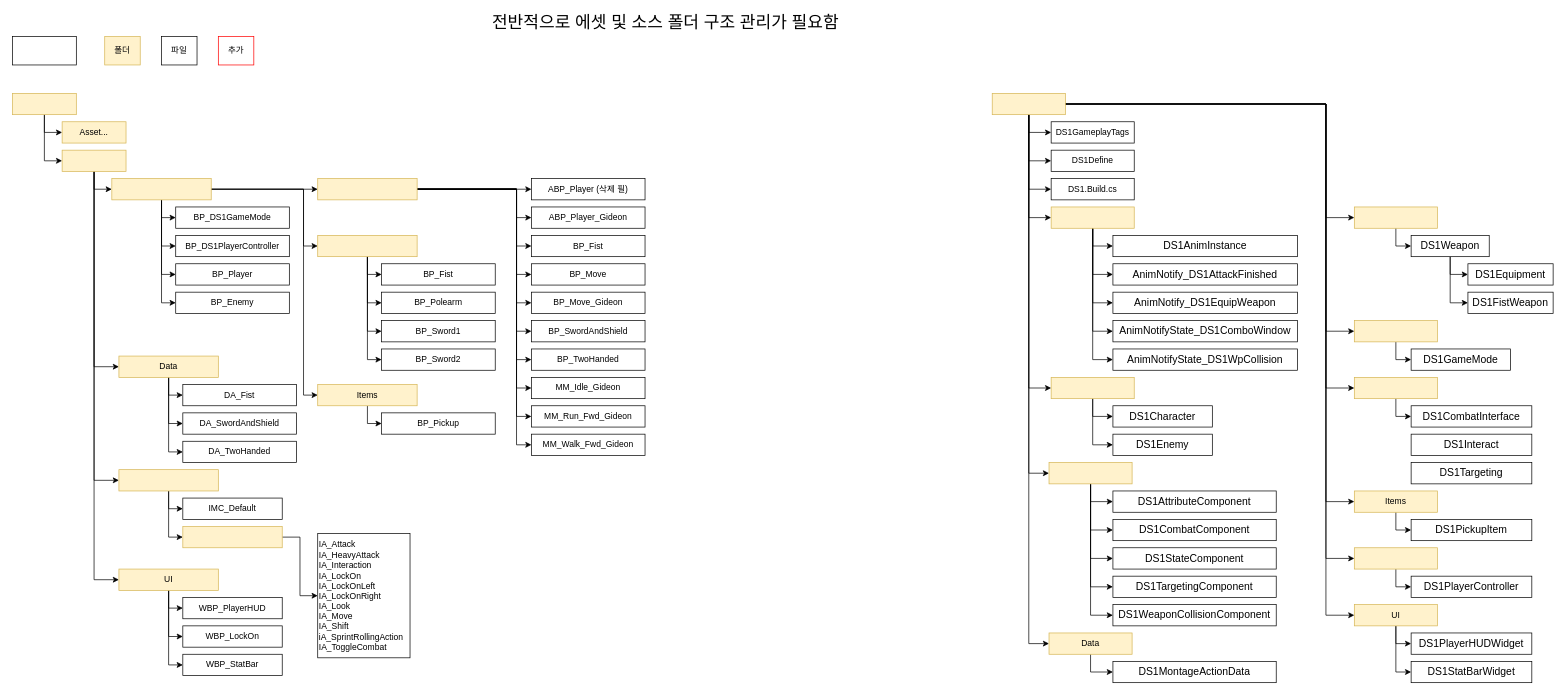
The diagram is 1566 pixels wide and 695 high, and some of its shapes have lost their labels. The box of each missing label's shape, as (x1, y1, x2, y2) in pixels:
_Game: (61, 149, 126, 171)
Actions: (182, 526, 282, 548)
Animation: (1050, 206, 1134, 228)
Animations: (317, 178, 417, 200)
Blueprints: (111, 178, 211, 200)
Character: (1050, 377, 1134, 399)
Components: (1048, 462, 1132, 484)
Content: (12, 93, 76, 115)
Equipment: (1354, 206, 1437, 228)
Equipments: (317, 235, 417, 257)
GameModes: (1354, 320, 1437, 342)
Input: (118, 469, 218, 491)
Interfaces: (1354, 377, 1437, 399)
Player: (1354, 547, 1437, 569)
Source/DS1: (992, 93, 1065, 115)
구조 정리 (DS1): (12, 36, 76, 65)
